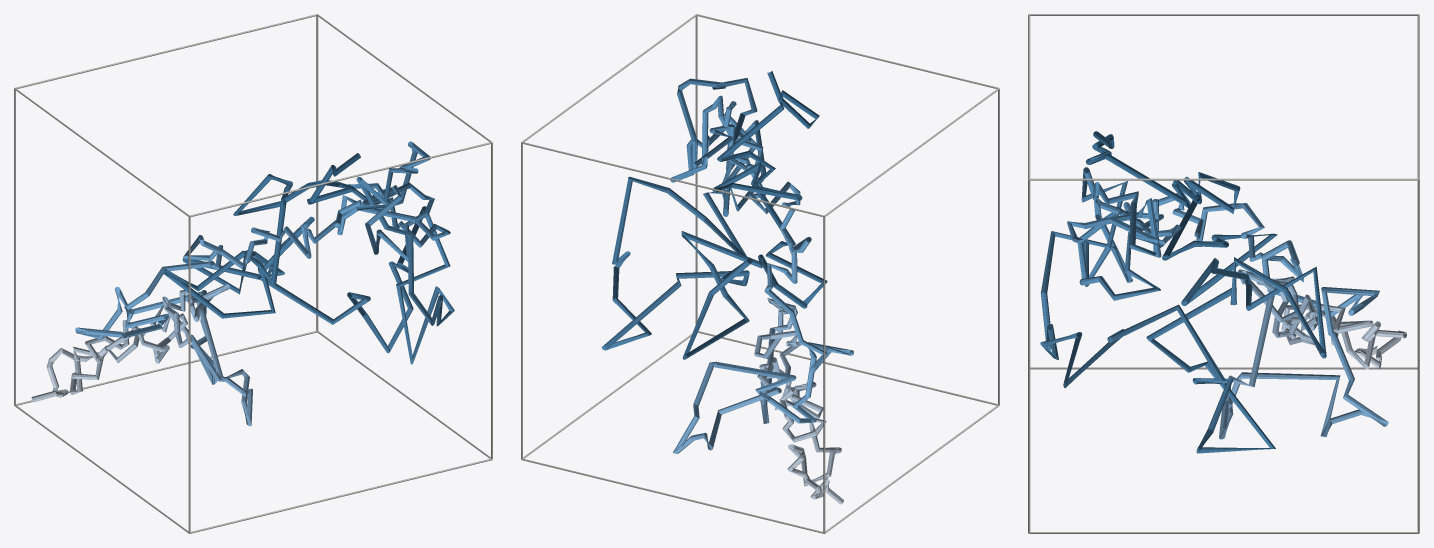
Rendered from SP08_late.glb.
3 renders of one model, left to right at view 1: azimuth 30°, elevation 25°; view 2: azimuth 150°, elevation 25°; view 3: azimuth 270°, elevation 25°, orthographic. The views are drawn at different scales.
Parts seen in each view (by area): view 1: geometry_0, geometry_1; view 2: geometry_0, geometry_1; view 3: geometry_0, geometry_1.
Boxes of the visible parts, left/top/right/bottom form: geometry_0: left=31, top=141, right=454, bottom=426; geometry_1: left=14, top=14, right=492, bottom=533; geometry_0: left=601, top=71, right=853, bottom=504; geometry_1: left=521, top=14, right=999, bottom=533; geometry_0: left=1040, top=131, right=1406, bottom=453; geometry_1: left=1028, top=14, right=1419, bottom=533.
Size of the model in its own units: 0.3033 by 0.3014 by 0.3016.
